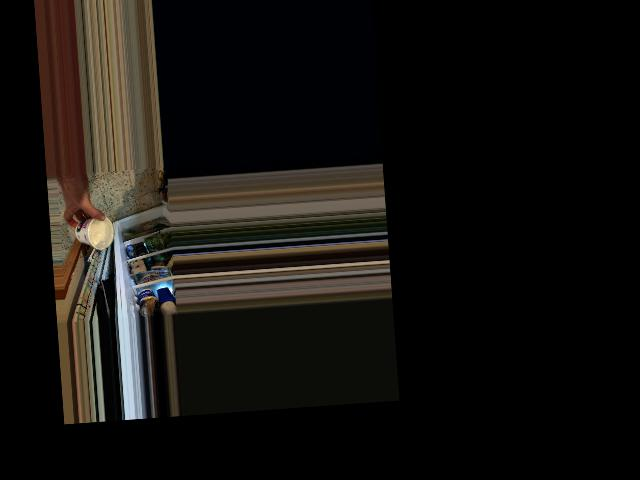cotage: (72, 212, 114, 249)
